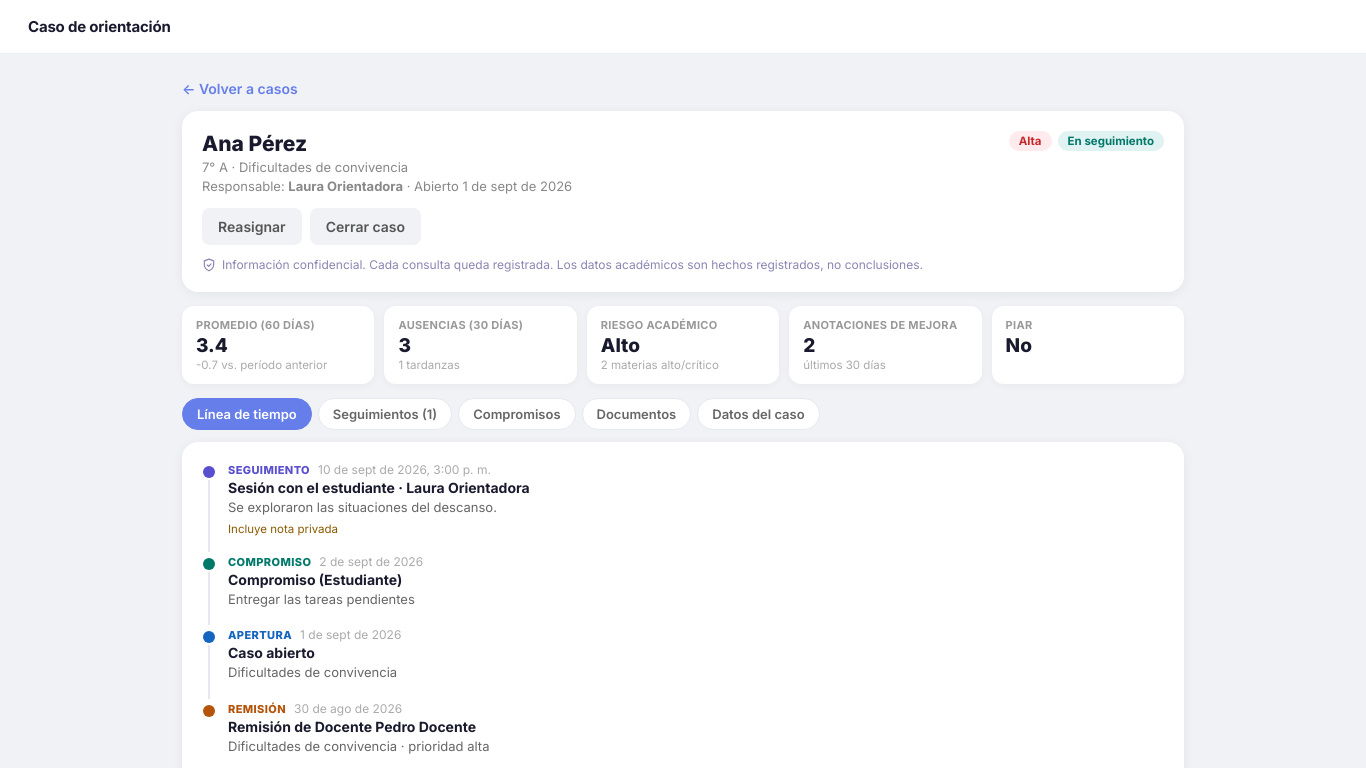
Test case: Detalle del caso de orientación › la nota privada NO se carga hasta que el orientador la pide
This screenshot has width=1366, height=768.
Expected: the heading "Ana Pérez" is shown, [202,131,307,156]
Click the tab "Seguimientos (1)". click: point(385, 414)
box: [318,398,452,430]
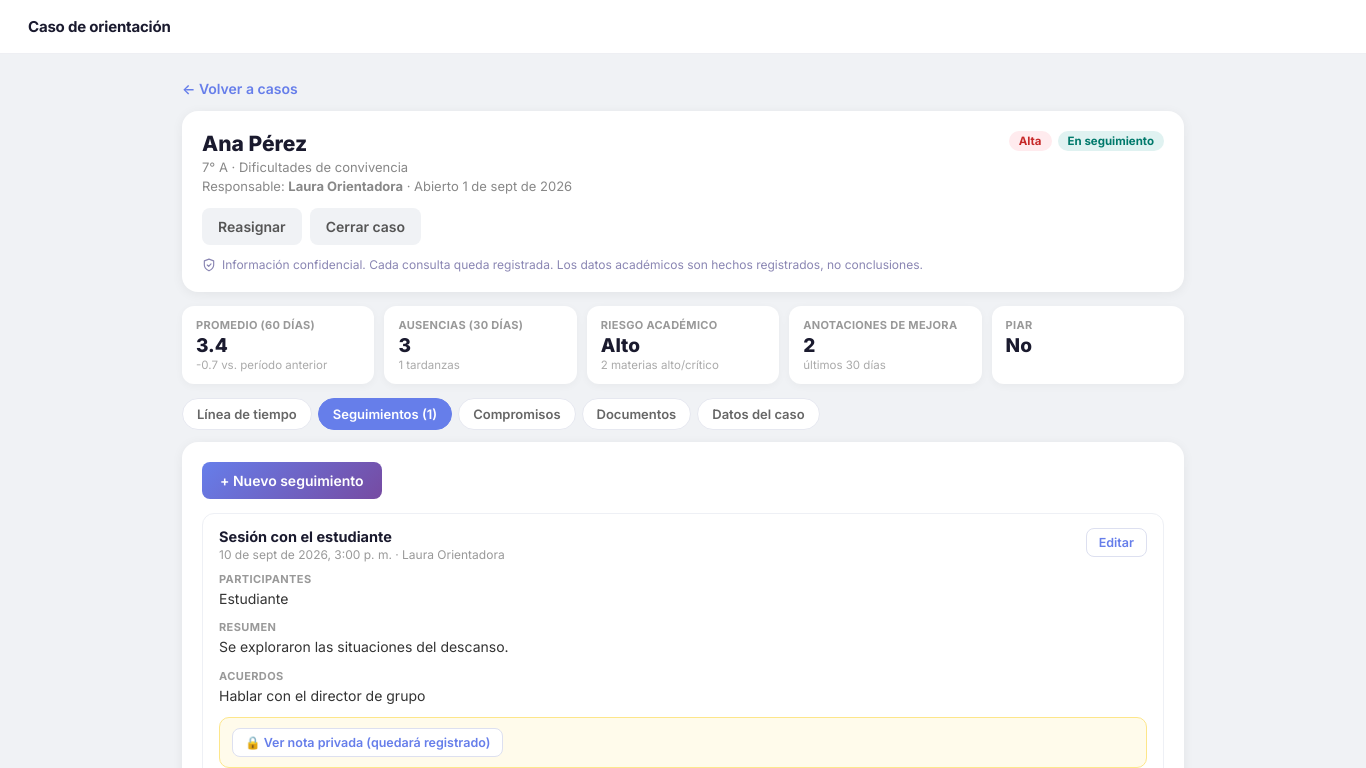
Click the button "🔒 Ver nota privada (quedará registrado)". click: point(368, 743)
box: [232,728,503,757]
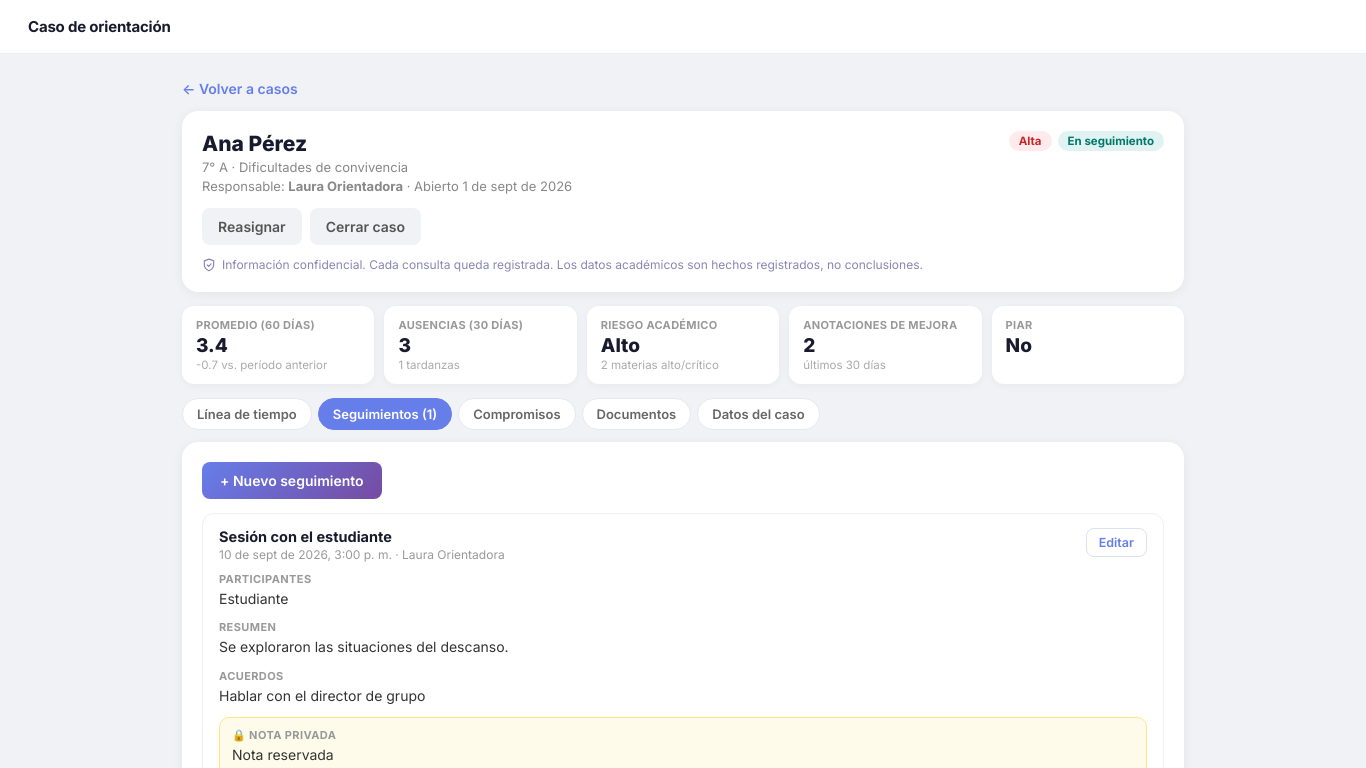
Expected: the text "Nota reservada" is shown, [232,746,334,763]
